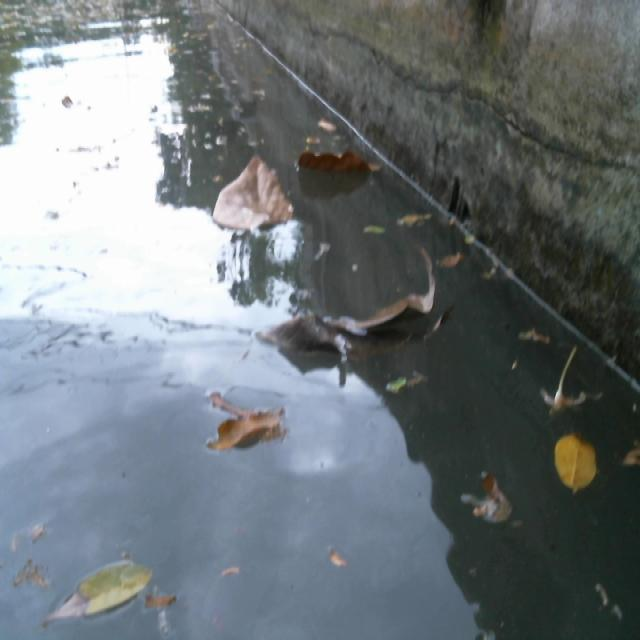Big-leaf: (258, 245, 445, 367), (203, 150, 304, 254), (195, 388, 295, 462), (296, 143, 387, 185)
Small-leaf: (42, 551, 163, 628), (552, 428, 602, 501), (467, 464, 521, 529), (438, 234, 479, 267), (524, 315, 559, 352), (361, 218, 394, 246), (401, 208, 441, 231)
